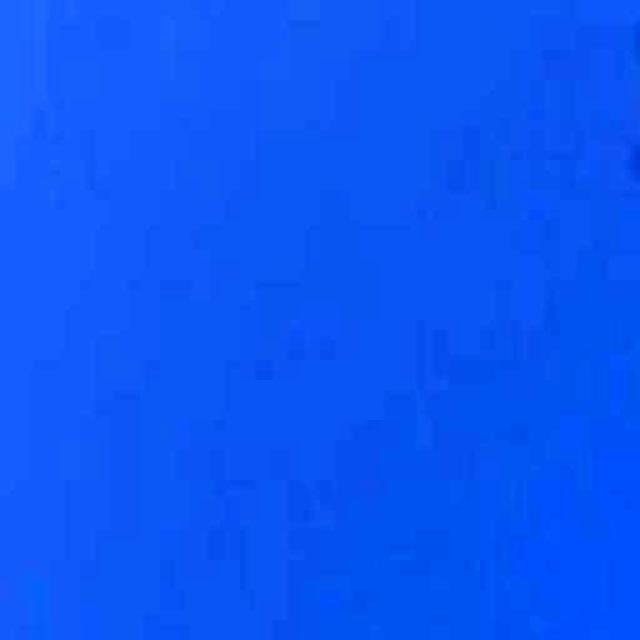drone: (565, 0, 640, 242)
